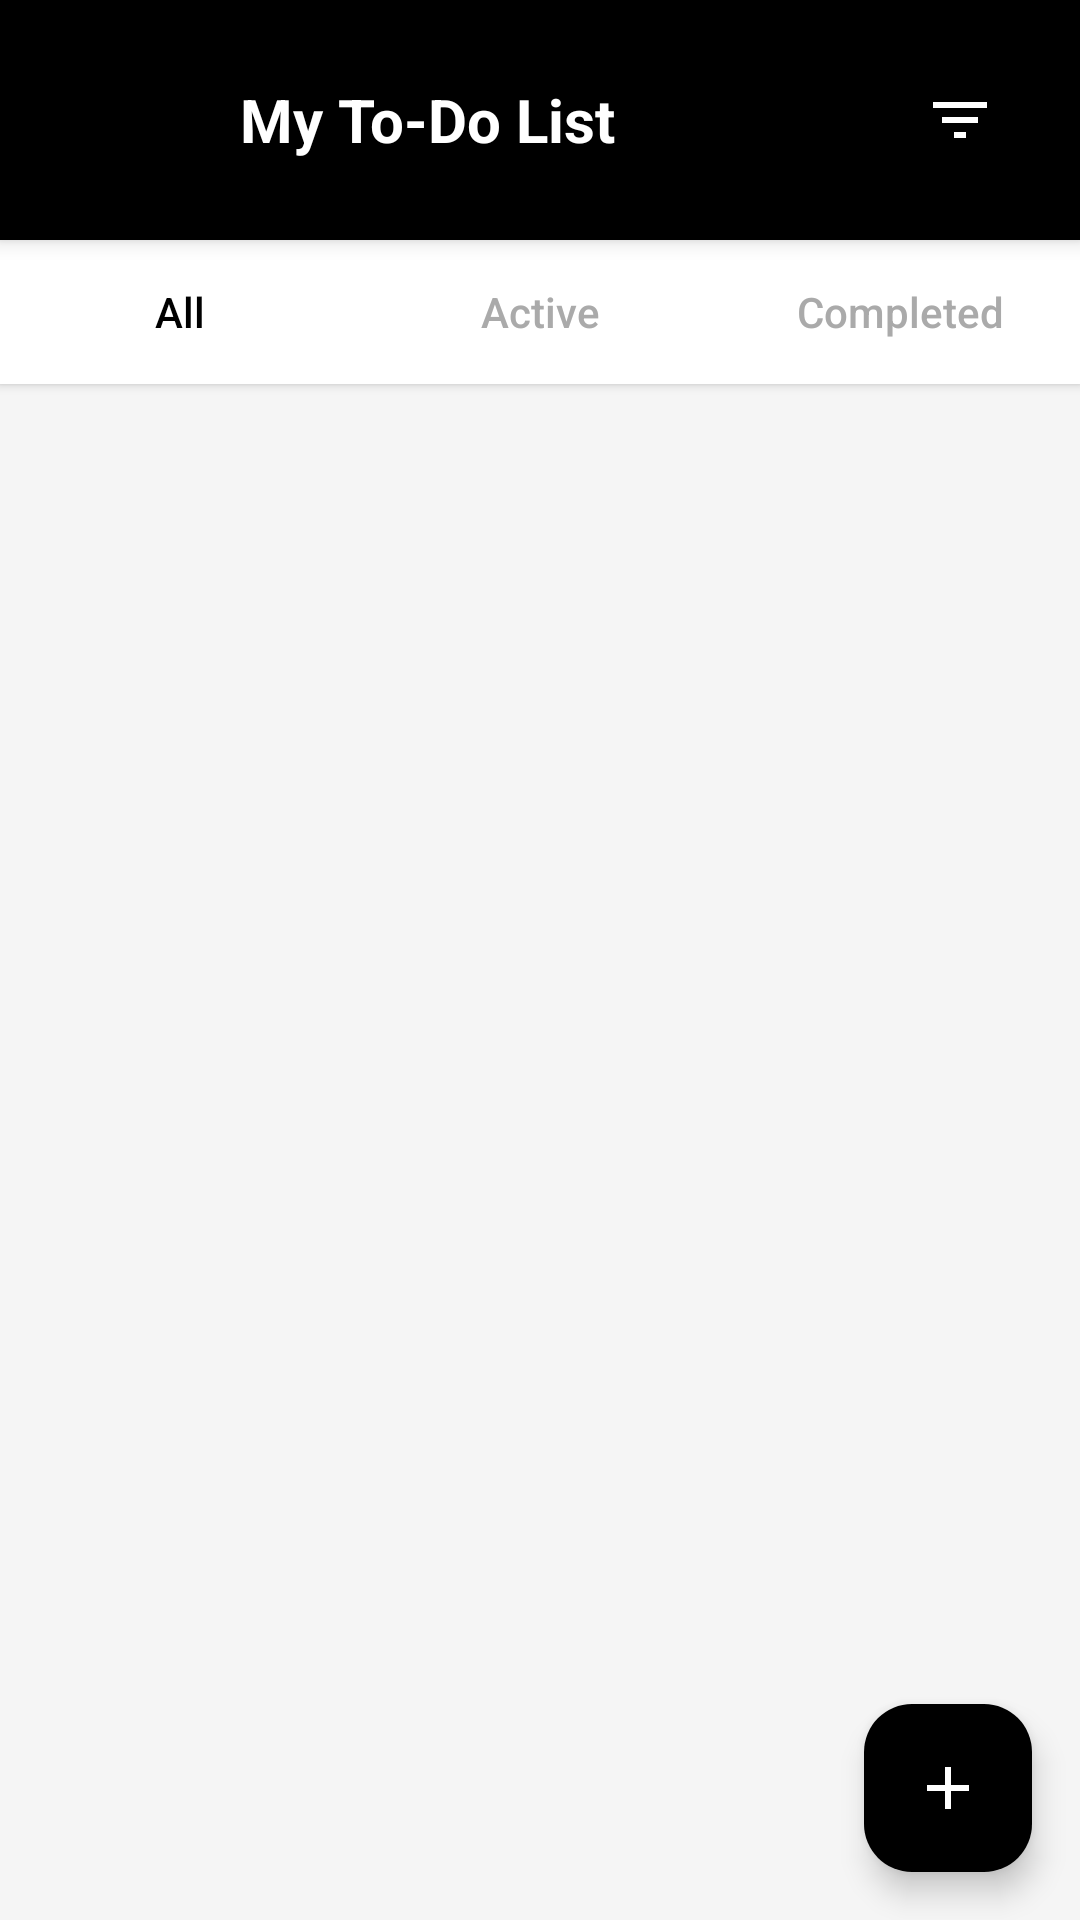

Screen size 1080 x 1920. Icon name, then its center in pixels as (x,y):
Add new task: (948,1788)
Filter: (960,120)
